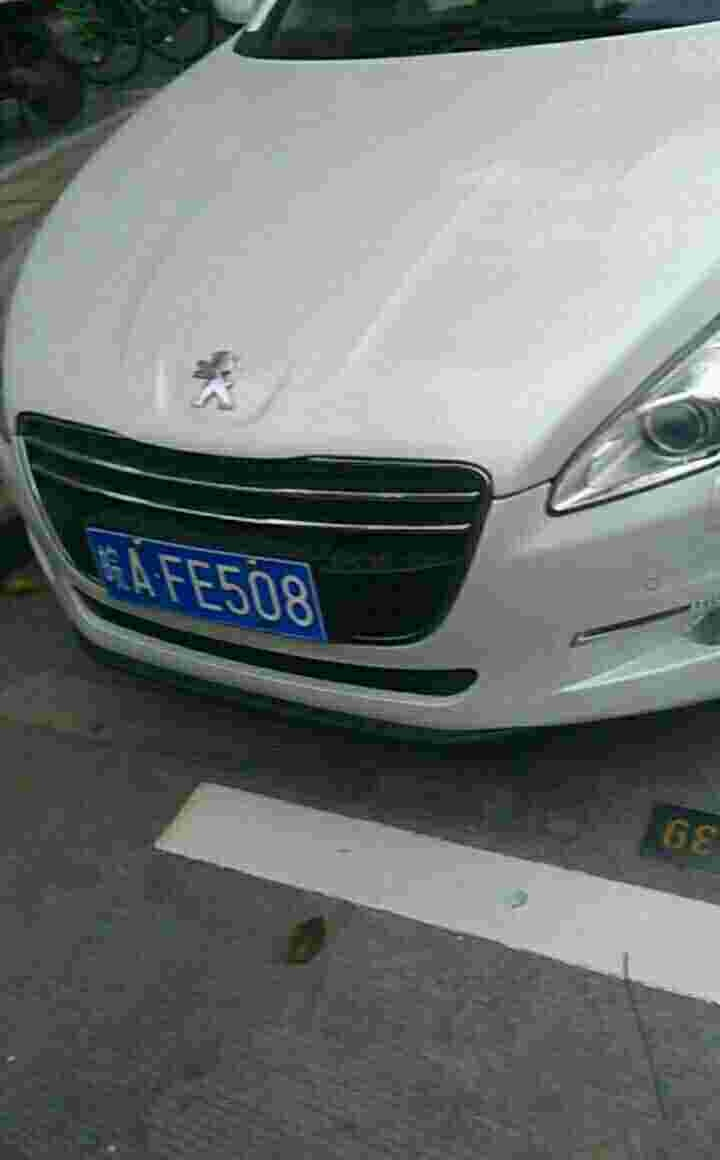license_plate: (80, 530, 322, 648)
